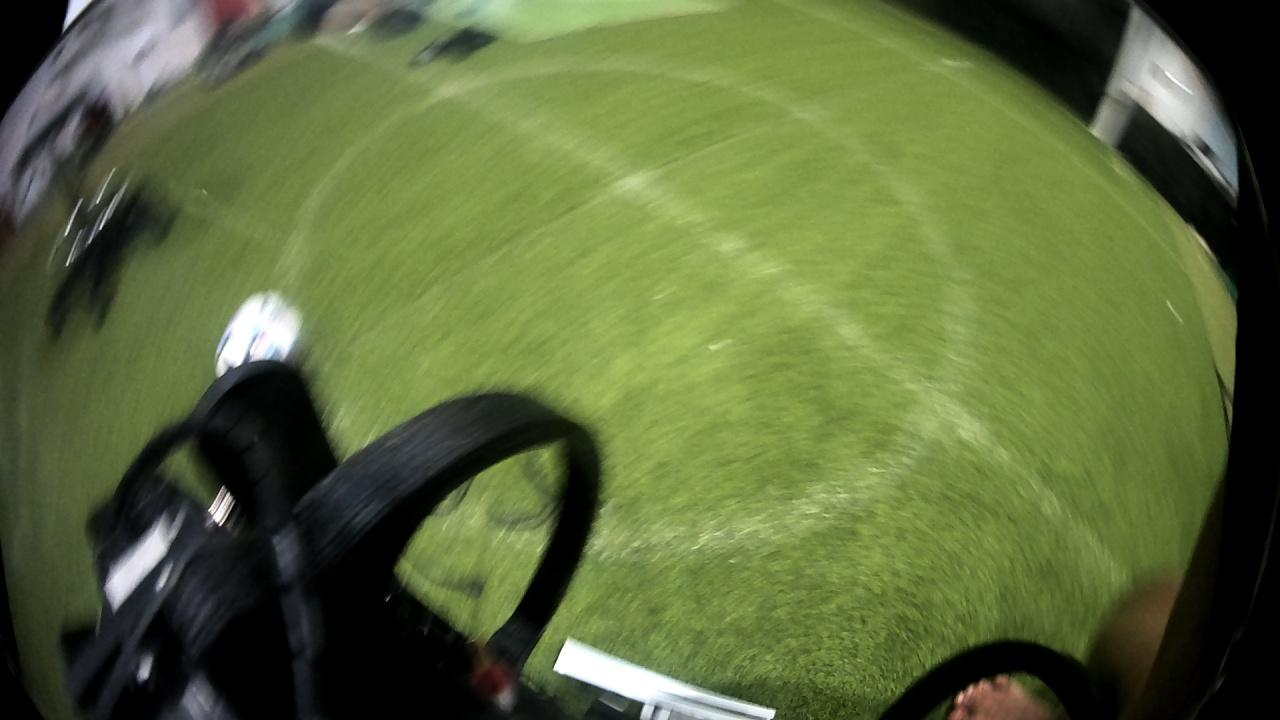ball: (209, 285, 309, 379)
